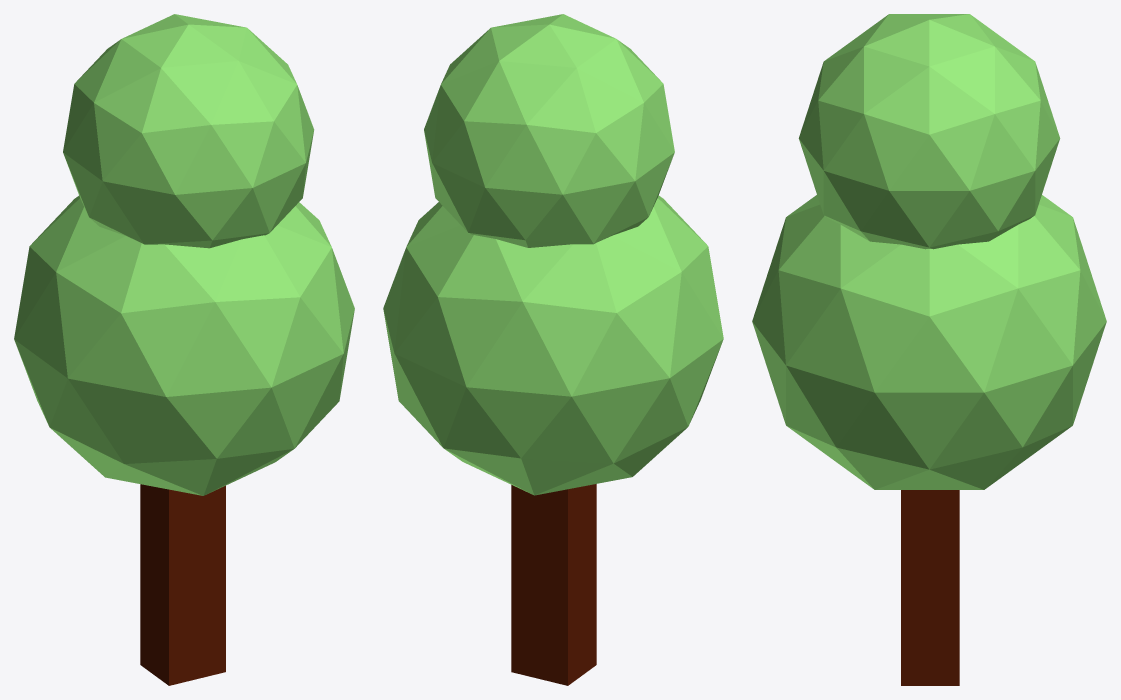
3 views of the same model, side by side, from view 1: azimuth 30°, elevation 25°; view 2: azimuth 150°, elevation 25°; view 3: azimuth 270°, elevation 25° (orthographic).
Parts seen in each view (by area): view 1: Icosphere.001, Icosphere, Cube; view 2: Icosphere.001, Icosphere, Cube; view 3: Icosphere.001, Icosphere, Cube.
Boxes of the visible parts, x1,y1,x2,y2 form: Icosphere.001: [14, 195, 354, 495]; Icosphere: [63, 14, 314, 248]; Cube: [140, 484, 225, 685]; Icosphere.001: [383, 195, 723, 495]; Icosphere: [424, 14, 674, 247]; Cube: [511, 484, 596, 685]; Icosphere.001: [752, 195, 1106, 489]; Icosphere: [798, 14, 1060, 249]; Cube: [901, 490, 959, 685].
Bounding box in the file's own units: 258 × 552 × 271.
